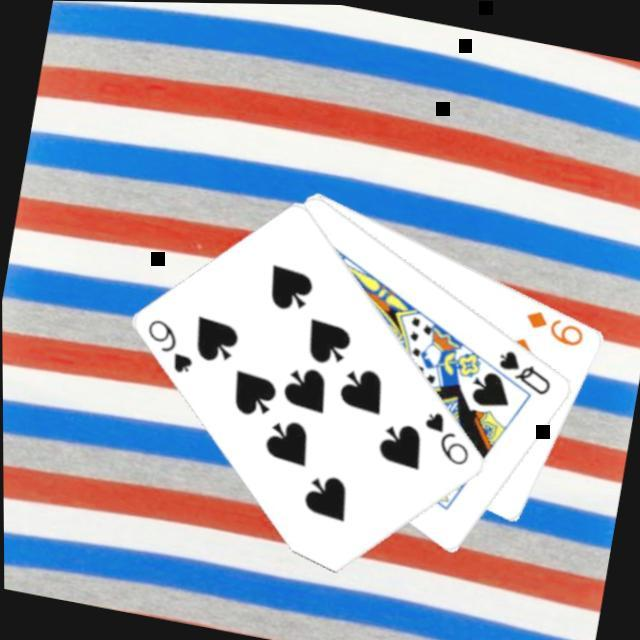9D: (517, 300, 588, 348)
9S: (135, 311, 201, 376), (412, 402, 477, 467)
QS: (488, 340, 557, 396)
